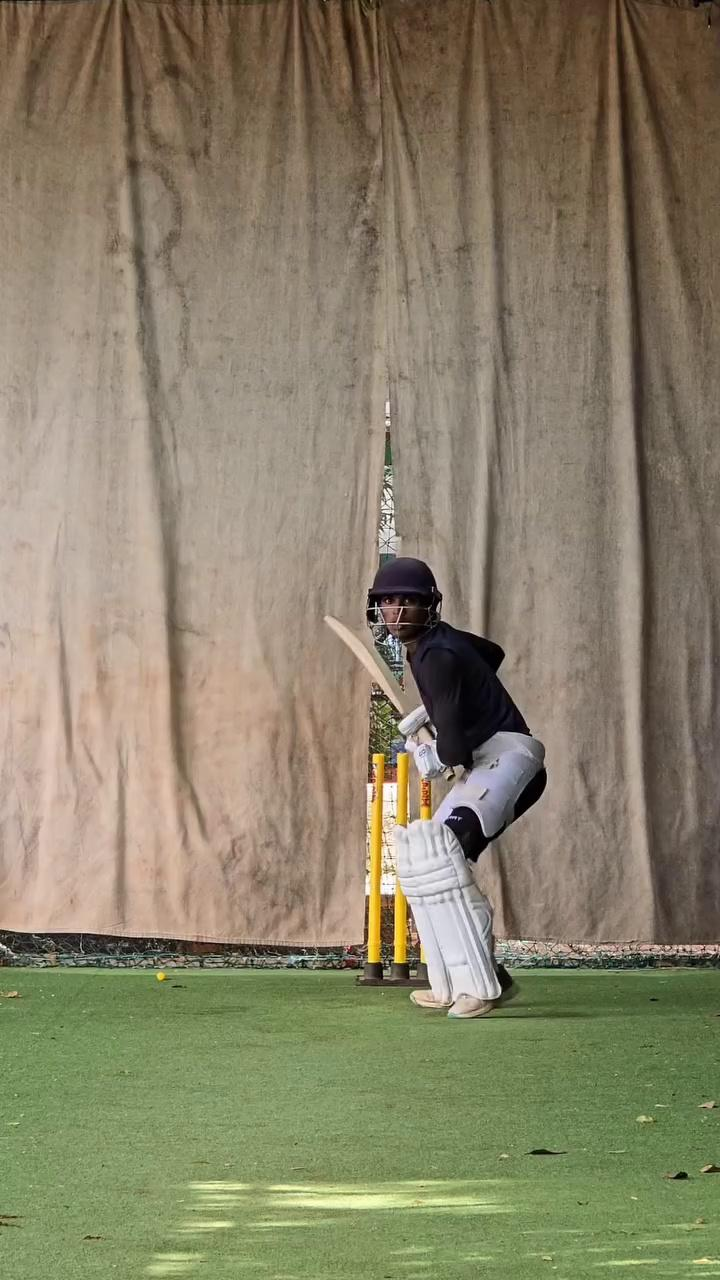bat: (317, 602, 419, 719)
